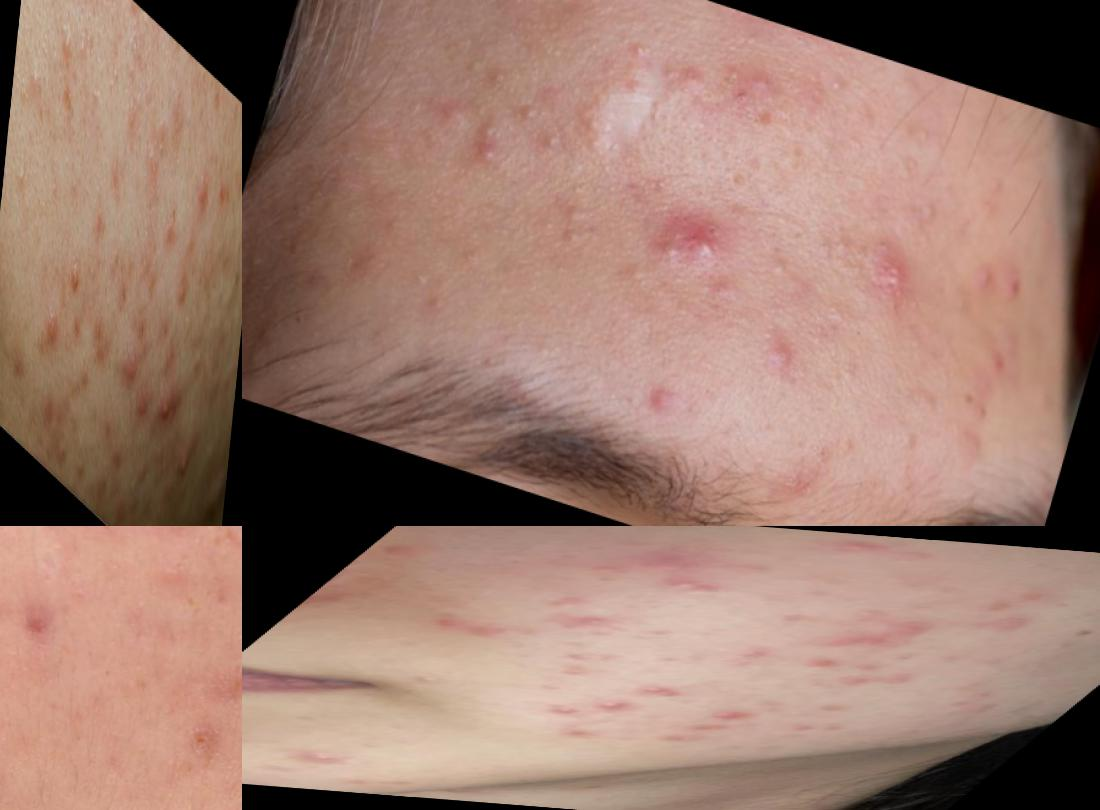blackhead: (800, 429, 843, 476), (902, 322, 940, 366), (148, 116, 169, 174)
papular: (646, 197, 743, 294), (858, 239, 928, 313), (779, 533, 935, 565), (618, 720, 764, 752), (601, 574, 760, 603), (832, 618, 951, 656), (626, 367, 682, 437), (398, 613, 527, 641), (183, 128, 214, 244), (751, 334, 811, 393), (265, 743, 383, 772), (928, 685, 1030, 717), (60, 240, 100, 321), (613, 546, 733, 573), (815, 667, 931, 694), (530, 649, 632, 679), (34, 289, 63, 387), (544, 612, 642, 635), (520, 591, 614, 613), (684, 703, 765, 727), (754, 608, 844, 628), (116, 333, 137, 407), (777, 719, 856, 738), (709, 646, 784, 666), (543, 724, 618, 744), (788, 654, 859, 672), (134, 366, 153, 431), (746, 67, 783, 99)
purulent: (457, 123, 518, 189), (605, 682, 693, 699), (172, 438, 196, 500), (583, 696, 654, 714), (541, 704, 607, 719), (159, 378, 174, 440)
sebo-crystan-conglo: (562, 65, 648, 174)
whitehead: (545, 197, 597, 262), (396, 267, 458, 320), (756, 239, 806, 293), (886, 413, 929, 472), (816, 67, 856, 116), (616, 24, 657, 71), (51, 6, 75, 81), (909, 191, 944, 237), (539, 126, 565, 166), (517, 93, 544, 129), (13, 148, 30, 199), (192, 341, 208, 390)
